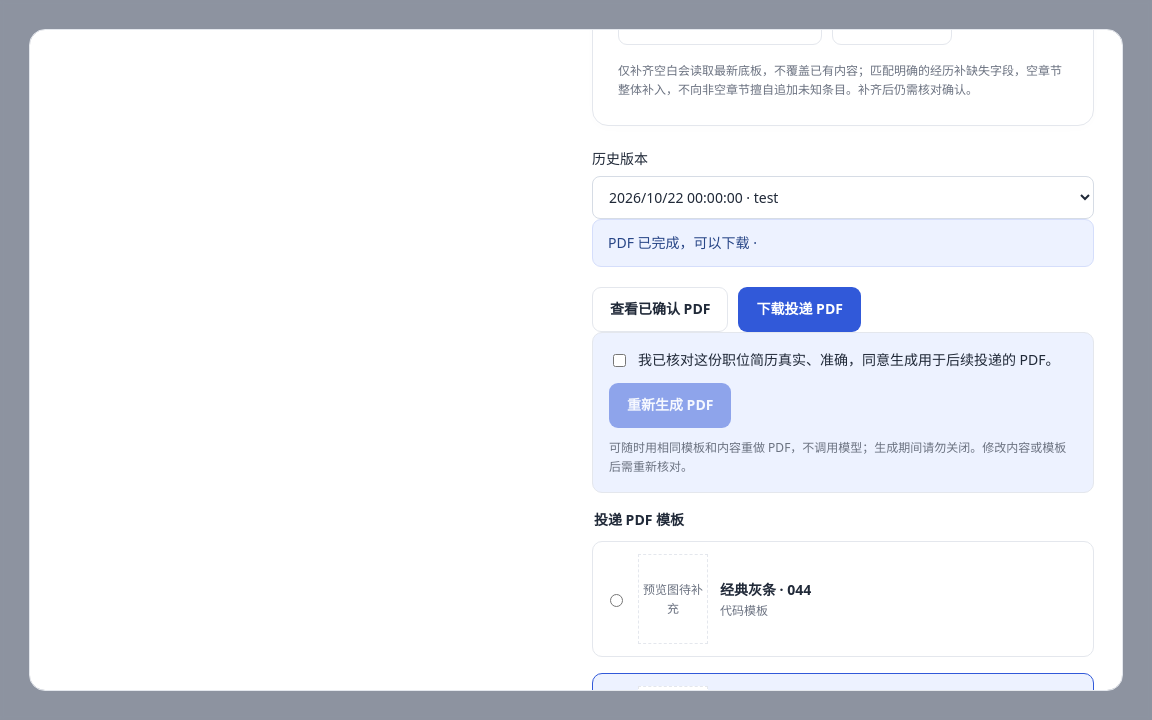
Test: job editor and PDF templates › invalidates confirmation and hides the previous PDF when changing only the template
(page scrolled)
Check: the link "下载投递 PDF" is shown, box 738,287 -> 861,332
What coordinates should you click on to do the following:
click the checkbox labelled "我已核对这份职位简历真实、准确，同意生成用于后续投递的 PDF。"
I would click on:
 (620, 360)
Its box is 613,354 -> 626,367.
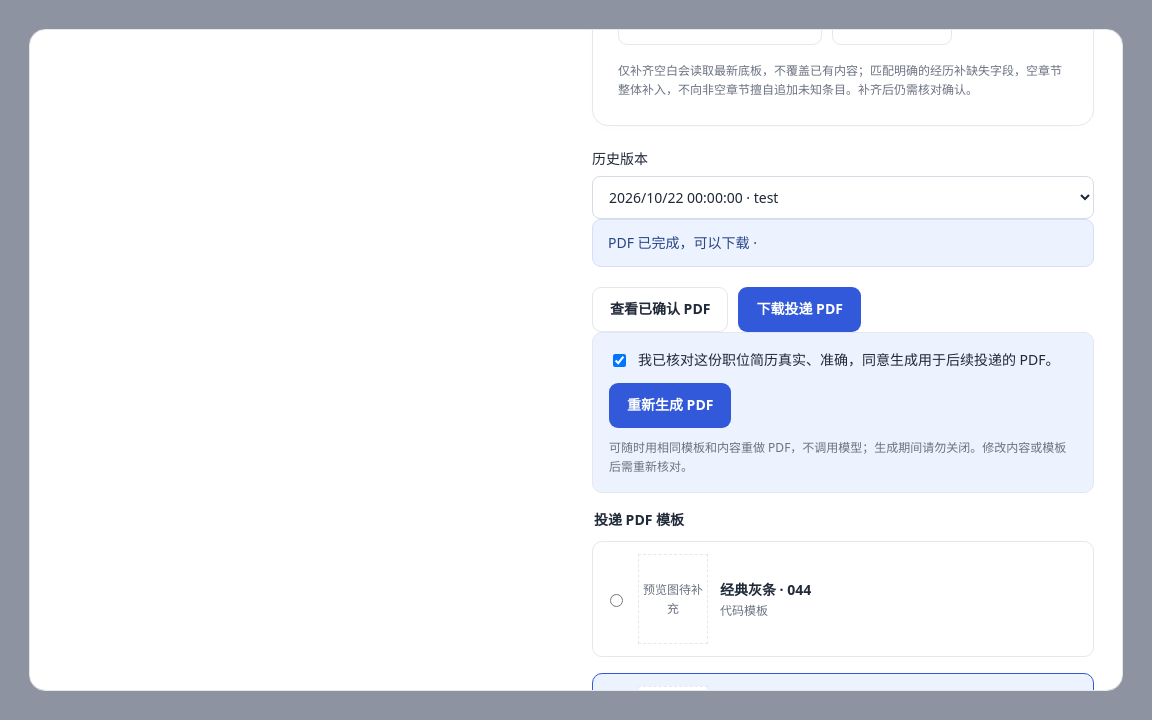
What coordinates should you click on to do the following:
click the radio button labelled "预览图待补充 经典灰条 · 044 代码模板"
I would click on:
 (616, 601)
Its box is 610,594 -> 623,607.
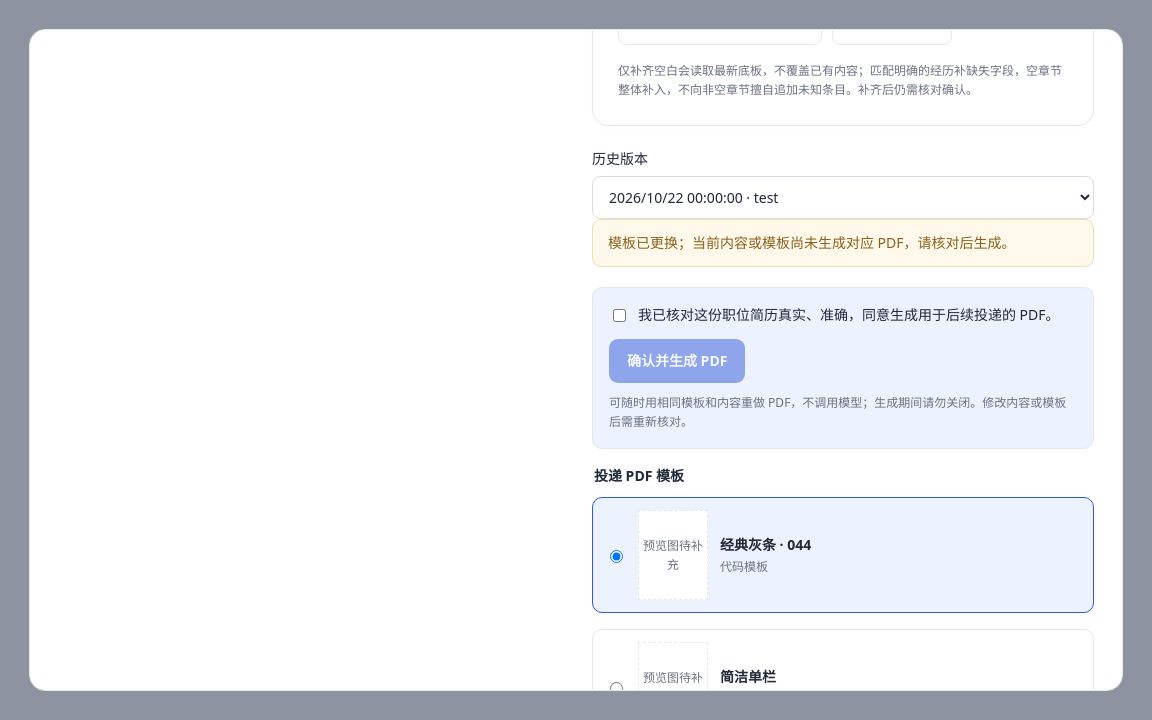
Check: the checkbox labelled "我已核对这份职位简历真实、准确，同意生成用于后续投递的 PDF。" is not checked, box 613,309 -> 626,322
Check: the text "模板已更换" is shown, box 608,233 -> 1016,252
Check: the submit button is disabled, box 609,339 -> 746,383
